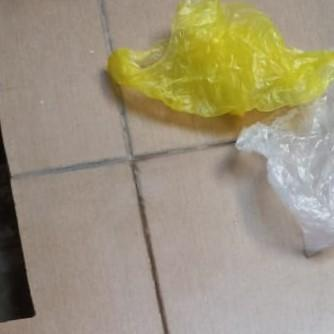Plastik: (107, 0, 334, 118), (234, 76, 334, 257)
